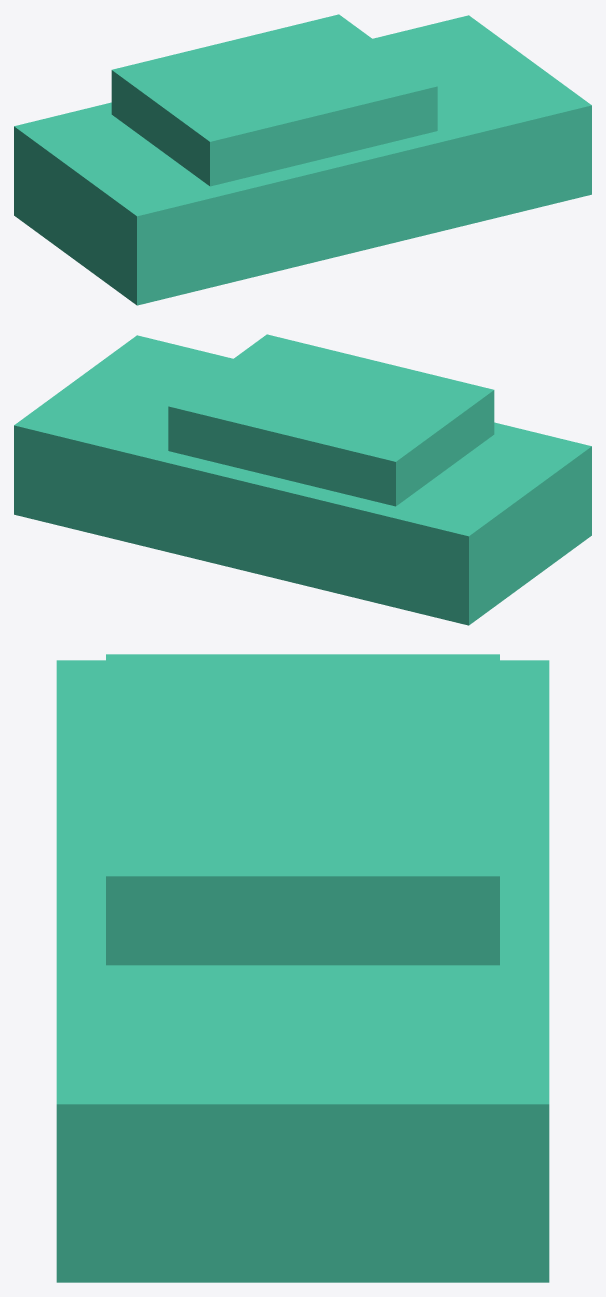
The model's file is veloce_gt9_hypercar.glb.
3 views of the same model, one above another, from view 1: azimuth 30°, elevation 25°; view 2: azimuth 150°, elevation 25°; view 3: azimuth 270°, elevation 25° (orthographic). The views are drawn at different scales.
Visible parts, largest first — view 1: GTEX_Asset_Root; view 2: GTEX_Asset_Root; view 3: GTEX_Asset_Root.
Boxes of the visible parts, <box> form: GTEX_Asset_Root: <box>14,14,591,305</box>; GTEX_Asset_Root: <box>14,334,591,625</box>; GTEX_Asset_Root: <box>56,654,549,1282</box>.
Bounding box in the file's own units: 3.2 × 0.9 × 1.5.
